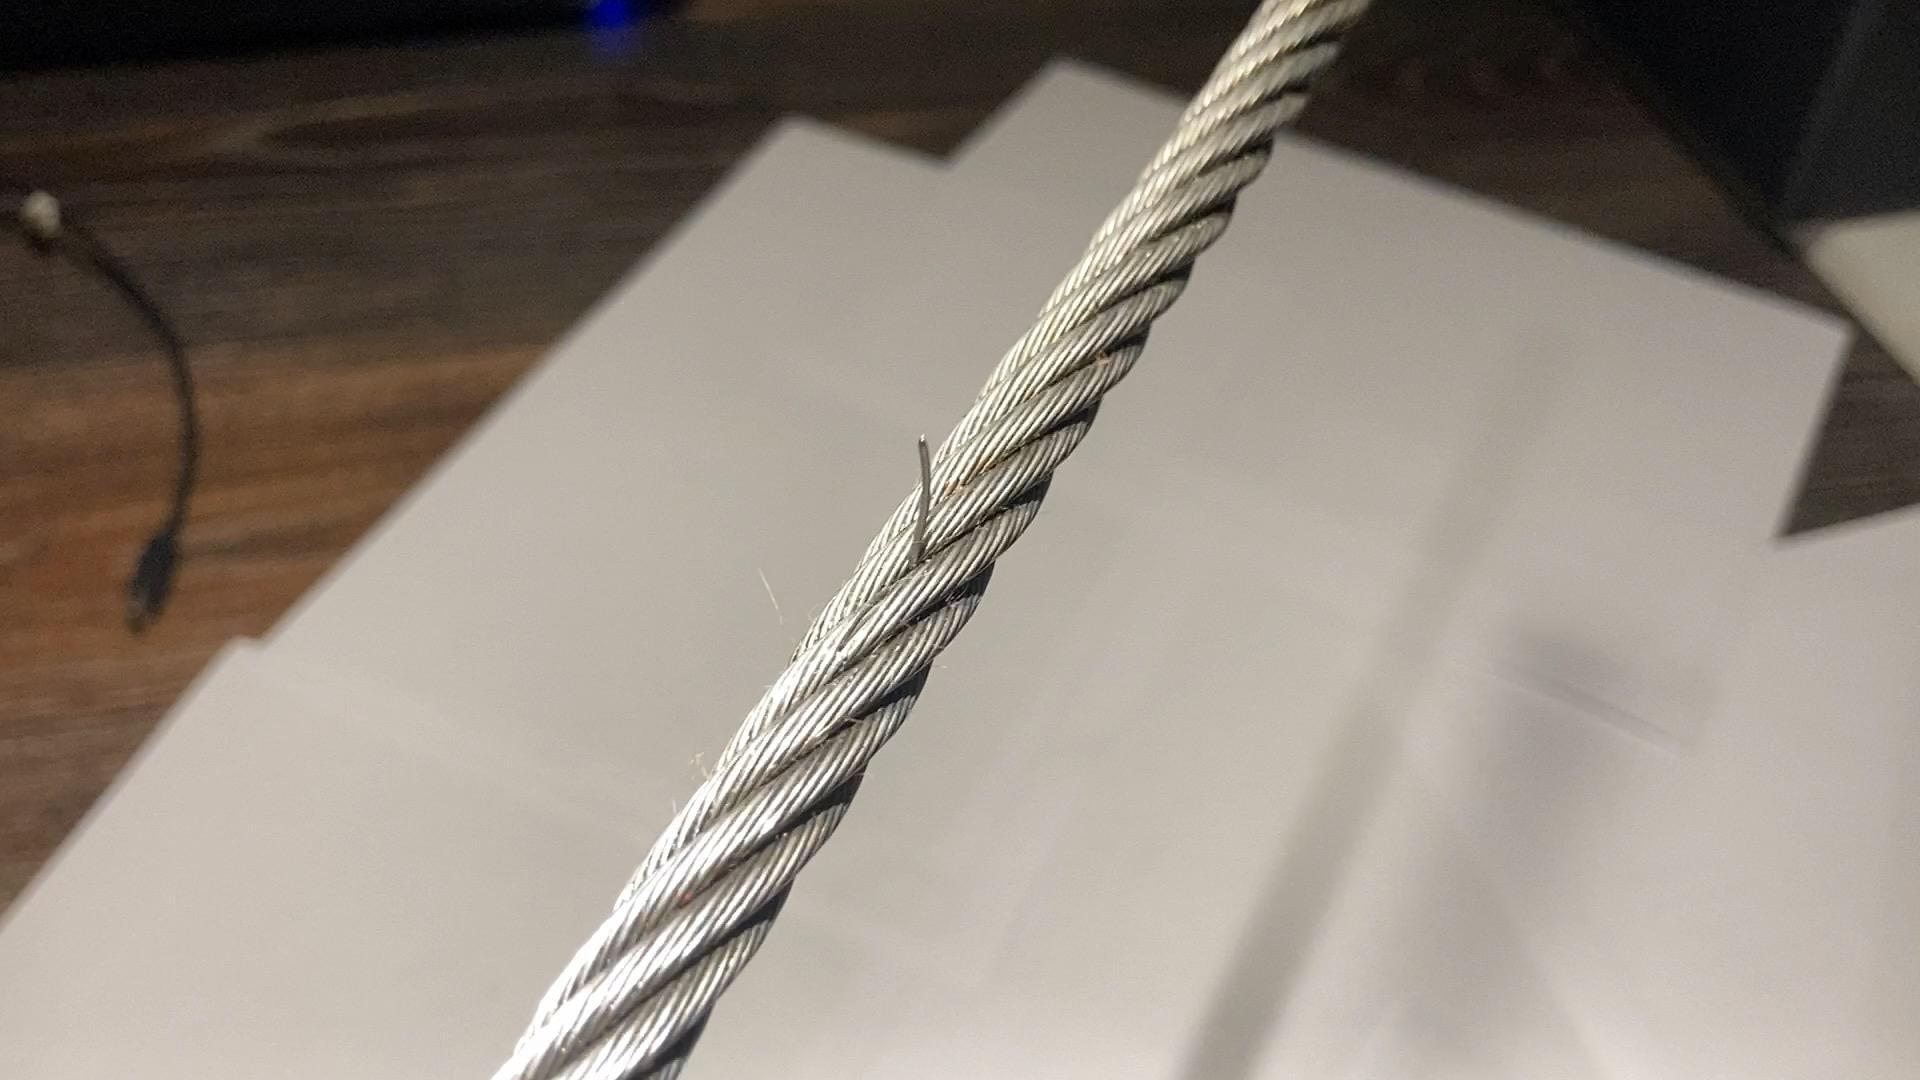break: (865, 413, 964, 570)
